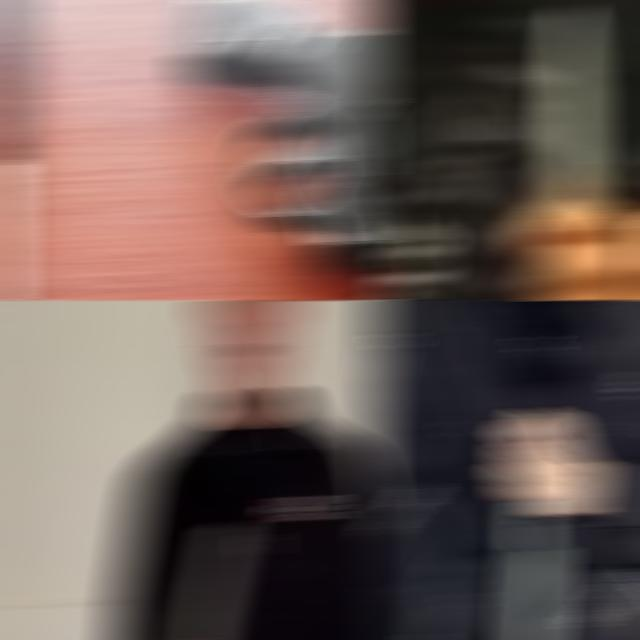Knife: (545, 4, 604, 203), (506, 500, 562, 640)
Knife_Handle: (511, 5, 640, 300), (474, 392, 587, 640), (136, 518, 249, 640)
